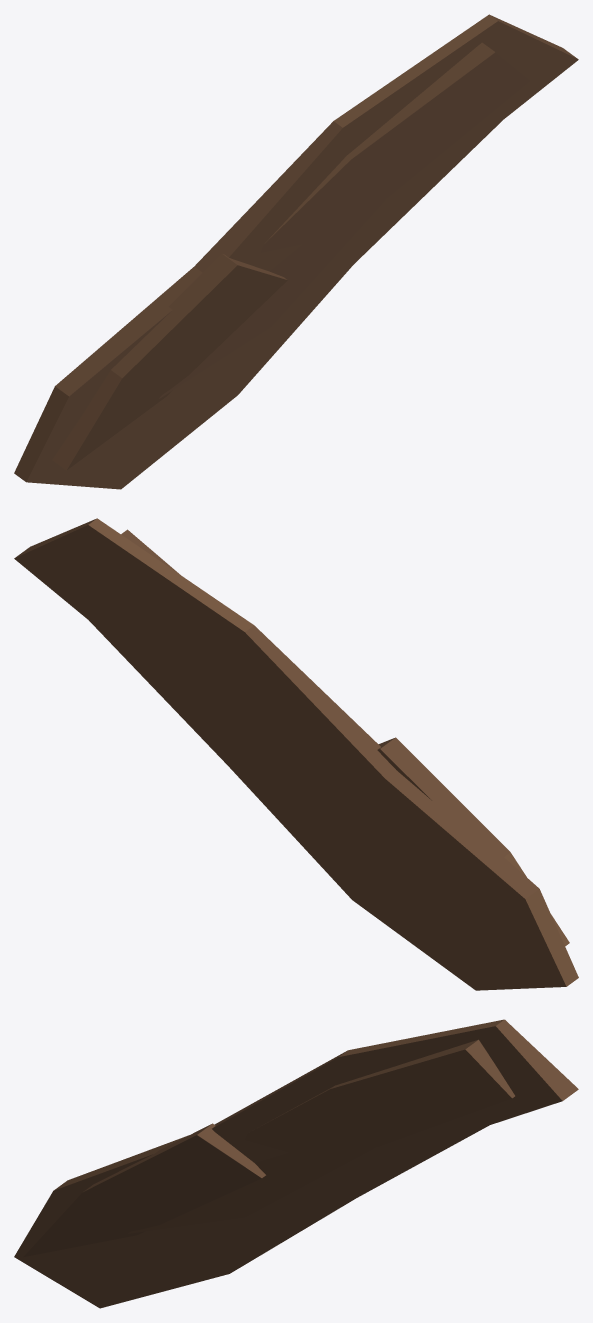
File: rootfall-seam.glb
3 renders of one model, top to bottom at view 1: azimuth 30°, elevation 25°; view 2: azimuth 150°, elevation 25°; view 3: azimuth 330°, elevation 25°, orthographic.
Parts seen in each view (by area): view 1: RootfallTornBark_chunk_0, RootfallTornBark_chunk_1, RootfallTornBark_chunk_2; view 2: RootfallTornBark_chunk_0, RootfallTornBark_chunk_2; view 3: RootfallTornBark_chunk_0, RootfallTornBark_chunk_1, RootfallTornBark_chunk_2.
Part boxes in pixels (bbox=[...]): RootfallTornBark_chunk_0: bbox=[14, 14, 578, 489]; RootfallTornBark_chunk_1: bbox=[159, 42, 530, 398]; RootfallTornBark_chunk_2: bbox=[52, 253, 287, 470]; RootfallTornBark_chunk_0: bbox=[14, 518, 578, 990]; RootfallTornBark_chunk_2: bbox=[377, 737, 569, 946]; RootfallTornBark_chunk_0: bbox=[14, 1019, 578, 1308]; RootfallTornBark_chunk_1: bbox=[128, 1039, 514, 1233]; RootfallTornBark_chunk_2: bbox=[23, 1123, 265, 1257].
Size of the model in its own units: 0.67 by 0.43 by 0.0591.
Materials: 1 (1 with a texture image).
